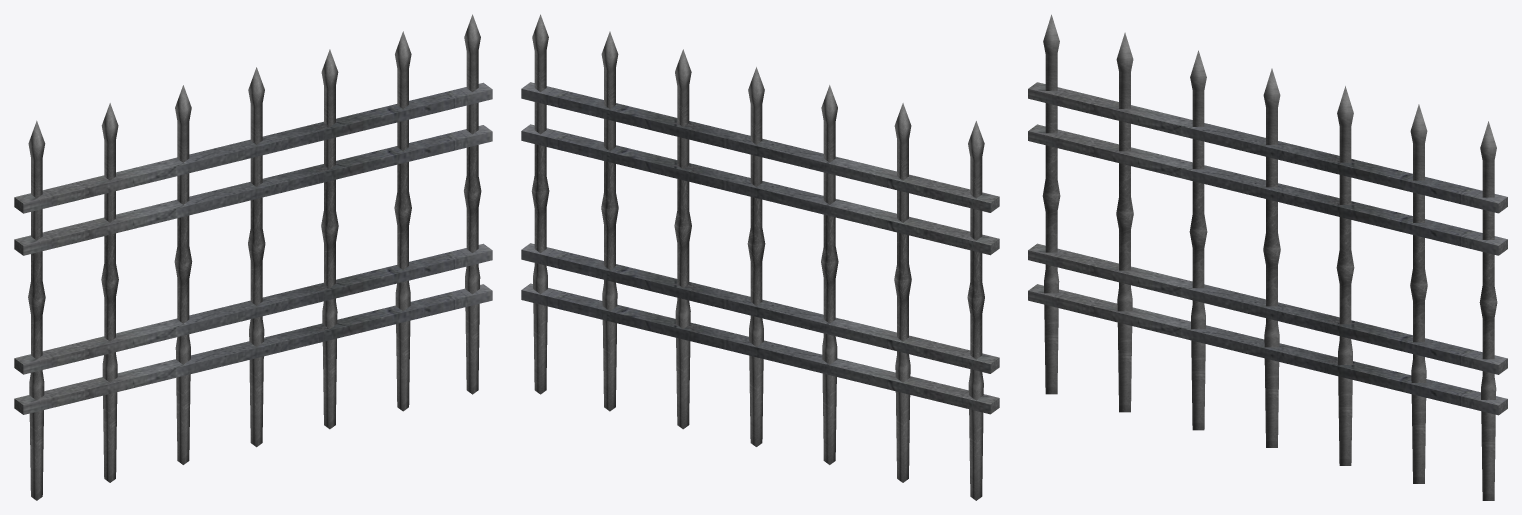
File: fence2.FBX
3 views of the same model, side by side, from view 1: azimuth 30°, elevation 25°; view 2: azimuth 150°, elevation 25°; view 3: azimuth 330°, elevation 25° (orthographic).
Parts seen in each view (by area): view 1: fence2; view 2: fence2; view 3: fence2.
Part boxes in pixels (x1=…): fence2: x1=14, y1=14, x2=492, y2=500; fence2: x1=521, y1=14, x2=999, y2=500; fence2: x1=1028, y1=14, x2=1507, y2=500.
Size of the model in its own units: 158 by 121 by 5.45.
